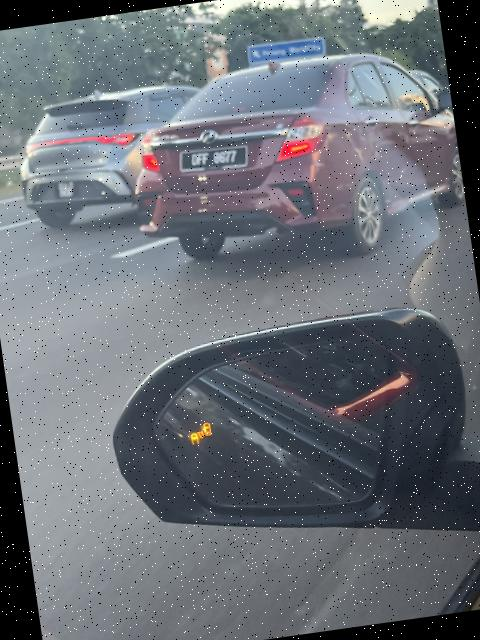License_Plate: (177, 136, 258, 182), (50, 175, 83, 205)
car: (110, 35, 472, 287), (5, 71, 227, 224)
